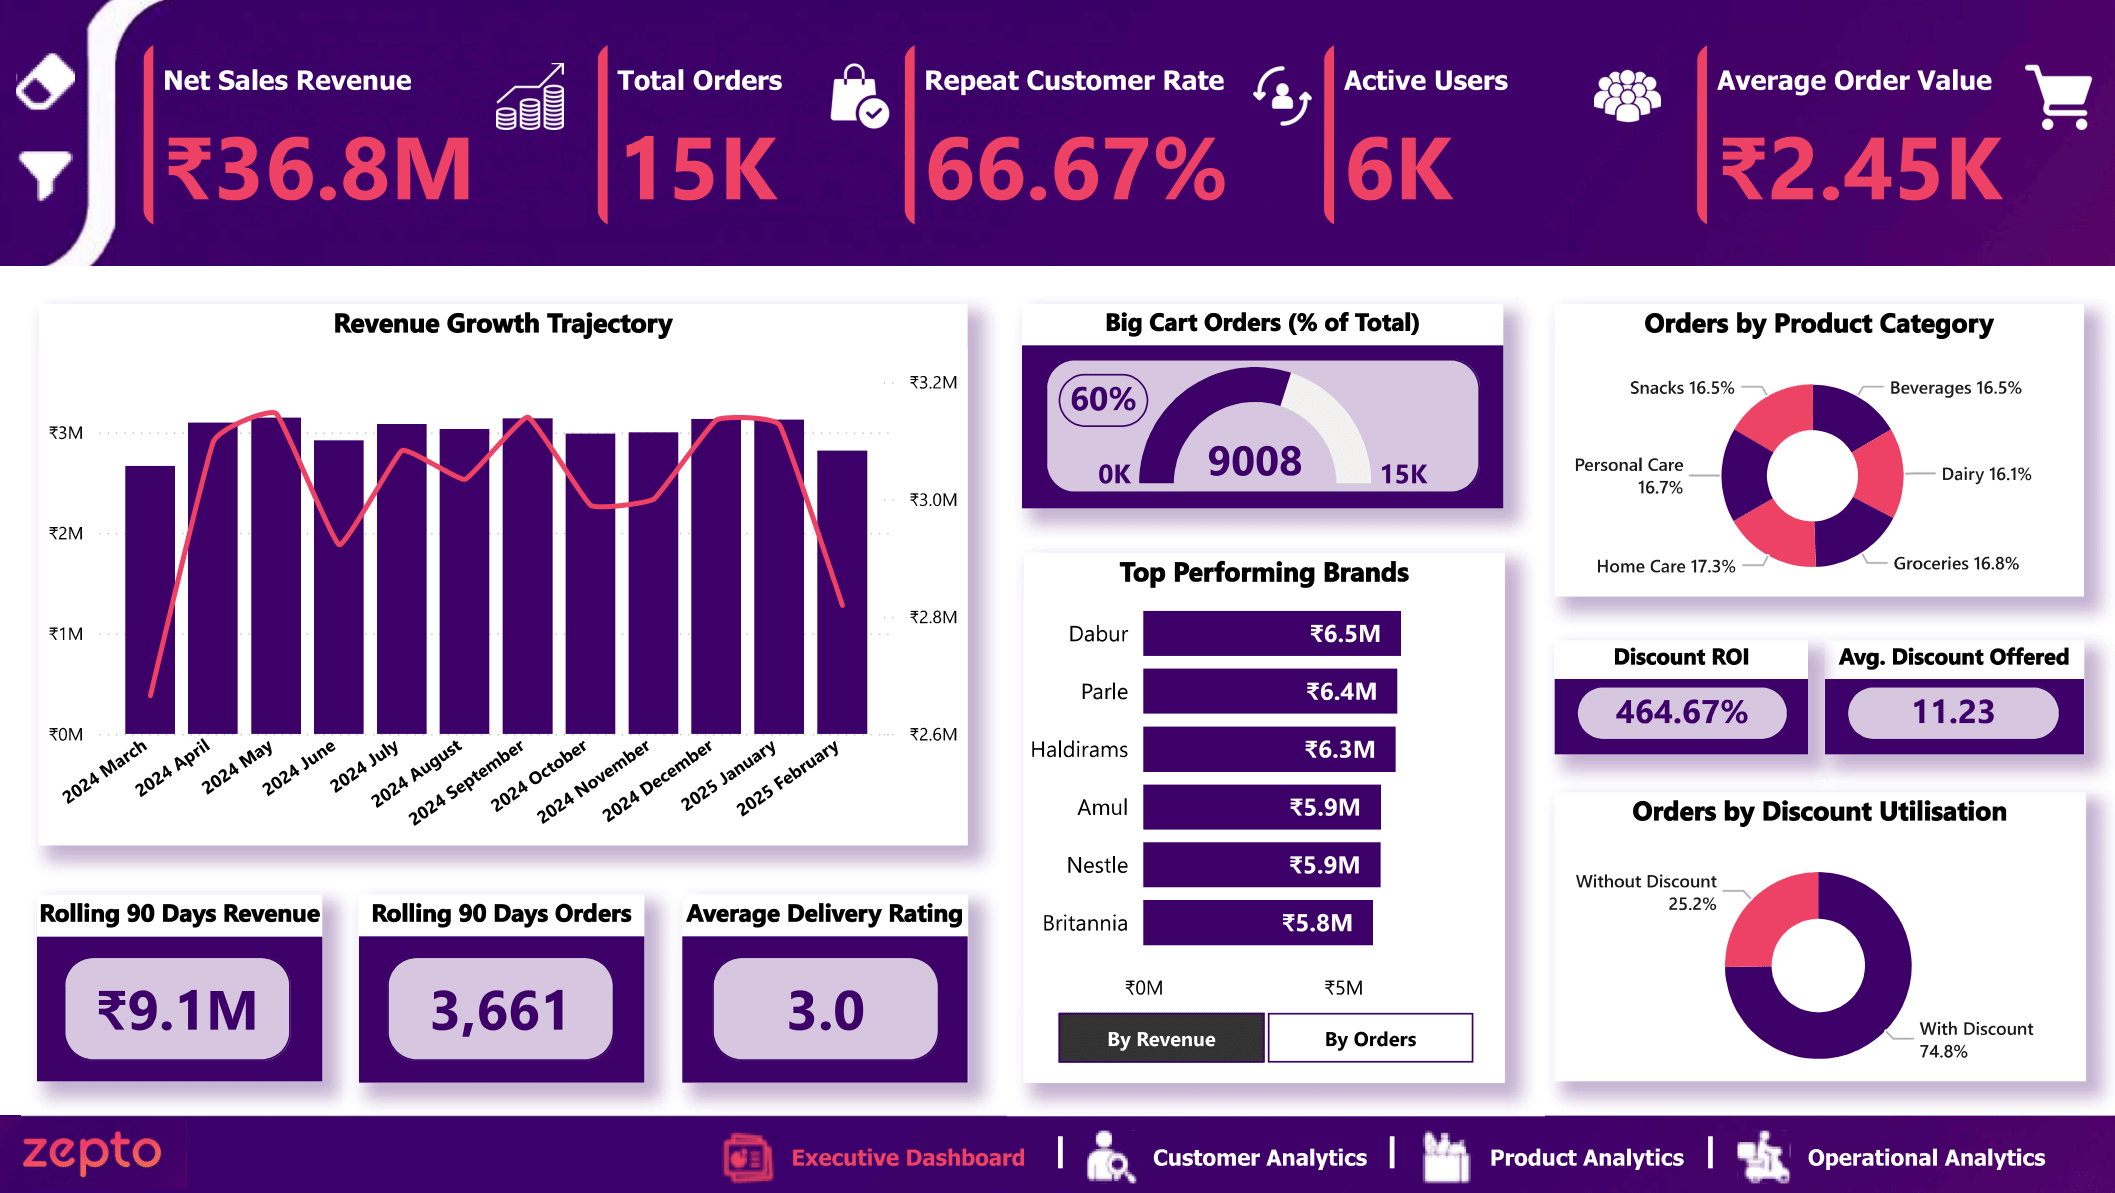

Layout of this report page (visuals, bound fields, positions):
{"tool":"powerbi","page":{"name":"Executive Dashboard","canvas":[1280,720],"ordinal":0},"visuals":[{"type":"image","title":"Bottom Bar","box":[0,673.3,1280,46.7],"z":0},{"type":"image","title":"Top Bar","box":[0,0,1280,161.4],"z":1000},{"type":"image","title":"Zepto Logo","box":[0,672.9,114.3,44.3],"z":2000},{"type":"cardVisual","title":"Revenue Card","fields":{"Data":["Measures Table.Total Revenue (Net of Discounts)"]},"box":[83.3,21.7,275,120],"z":3000},{"type":"cardVisual","title":"Orders Card","fields":{"Data":["Measures Table.Total Orders"]},"box":[356.7,21.7,200,120],"z":4000},{"type":"cardVisual","title":"Repeat Customer % Card","fields":{"Data":["Measures Table.Repeat Customer Rate"]},"box":[541.7,21.7,270,120],"z":5000},{"type":"cardVisual","title":"Active Users Card","fields":{"Data":["Measures Table.Active Users"]},"box":[795,21.7,225,120],"z":6000},{"type":"cardVisual","title":"Cart Size Card","fields":{"Data":["Measures Table.Average Order Value"]},"box":[1020,21.7,260,120],"z":7000},{"type":"shape","title":"Revenue Growth Trajectory","box":[24.5,184.1,560.7,326.4],"z":8000},{"type":"lineClusteredColumnComboChart","title":"Line Chart","fields":{"Y":["Measures Table.Net Sales Revenue"],"Y2":["Measures Table.Net Sales Revenue"],"Category":["Orders.Order_Date.Variation.Date Hierarchy.Year","Orders.Order_Date.Variation.Date Hierarchy.Month"]},"box":[24.5,217.2,560.7,293.3],"z":9000},{"type":"shape","title":"Orders by Discount Utilisation","box":[939,477.6,319.5,174.4],"z":10000},{"type":"shape","title":"Orders by Product Category","box":[938.7,184.1,319,175.5],"z":11000},{"type":"donutChart","title":"Pie Chart 2","fields":{"Y":["Measures Table.Total Orders"],"Category":["Products.Category"]},"box":[931.3,217.2,326.4,141.1],"z":12000},{"type":"donutChart","title":"Pie Chart 1","fields":{"Y":["Measures Table.Total Orders"],"Category":["Orders.Discount Flag"]},"box":[939,510.2,317.9,145.1],"z":13000},{"type":"shape","title":"Rolling 90 Days Revenue","box":[24.5,539.6,171.2,112.5],"z":14000},{"type":"card","title":"Rolling Revenue Card","fields":{"Values":["Measures Table.Running Total of Revenue 90 Days"]},"box":[40.1,576.6,137.1,63.4],"z":15000},{"type":"shape","title":"Discount ROI","box":[938.7,386.5,153.4,68.7],"z":16000},{"type":"shape","title":"Avg. Discount Offered","box":[1101.8,386.5,155.8,68.7],"z":17000},{"type":"shape","title":"Rolling 90 Days Orders","box":[218.4,539.9,171.8,112.9],"z":18000},{"type":"shape","title":"Average Delivery Rating","box":[413.5,539.9,171.8,112.9],"z":19000},{"type":"card","title":"Rolling Orders Card","fields":{"Values":["Measures Table.Running Total of Orders 90 Days"]},"box":[235.3,576.6,137.1,63.4],"z":20000},{"type":"card","title":"Avg. Delivery Rating Card","fields":{"Values":["Measures Table.Average Delivery Rating"]},"box":[430.5,576.6,137.1,63.4],"z":21000},{"type":"card","title":"Discount ROI Card","fields":{"Values":["Measures Table.Discount ROI"]},"box":[951.7,414.2,128.3,32.5],"z":22000},{"type":"card","title":"Avg. Discount Card","fields":{"Values":["Measures Table.Average Discount Offered"]},"box":[1115.4,413.8,128.5,33.1],"z":23000},{"type":"shape","title":"Top Performing Brands","box":[618.6,334.3,290,318.6],"z":24000},{"type":"clusteredBarChart","title":"Top Performing Brand Bar Chart","fields":{"Y":["measures_table.Net Sales Revenue"],"Category":["Products.Brand"]},"box":[617.1,347.1,290,261.4],"z":25000},{"type":"slicer","title":"Field Parameter Slicer","fields":{"Values":["brands_performance.Brands Performance"]},"box":[618.6,608.6,290,34.3],"z":26000},{"type":"shape","title":"Big Cart Orders (% of Total)","box":[618.4,184.1,289.6,122.7],"z":27000},{"type":"gauge","title":"Big Cart Orders Gauge Chart","fields":{"MaxValue":["Measures Table.Total Orders"],"Y":["Measures Table.Big Cart Orders"]},"box":[631.8,217.4,262.3,80.2],"z":28000},{"type":"card","title":"Big Cart % Card","fields":{"Values":["Measures Table.% of Big Cart Orders"]},"box":[640,225.6,54.4,32.6],"z":29000},{"type":"actionButton","title":"Clear Slicer Button","box":[7.1,21.4,43.9,56.1],"z":30000},{"type":"actionButton","title":"Filter Panel Button","box":[7,77,44,57],"z":31000},{"type":"actionButton","title":"Customer Page Navigation","box":[652.2,677.6,177.6,40.3],"z":33000},{"type":"actionButton","title":"Exec Dashboard Navigation","box":[432.8,677.6,191,40.3],"z":34000},{"type":"actionButton","title":"Product Navigation","box":[853.7,677.6,167.2,40.3],"z":35000},{"type":"actionButton","title":"Operations Navigation","box":[1044.8,677.6,194,40.3],"z":36000},{"type":"textbox","title":"Divider 3","box":[1020.9,673.1,23.9,44.8],"z":37000},{"type":"textbox","title":"Divider 1","box":[613.4,673.1,55.2,46.3],"z":38000},{"type":"textbox","title":"Divider 2","box":[817.9,673.1,46.3,46.3],"z":39000}]}

Visuals, with their boxes in screenshot pixels (x1, y1, x2, y2), scaled from the page's 1280x720 canvas onto the 2115x1193 screenshot:
"Bottom Bar" image: <region>0, 1116, 2114, 1192</region>
"Top Bar" image: <region>0, 0, 2114, 267</region>
"Zepto Logo" image: <region>0, 1115, 189, 1188</region>
"Revenue Card" cardVisual: <region>138, 36, 592, 235</region>
"Orders Card" cardVisual: <region>589, 36, 920, 235</region>
"Repeat Customer % Card" cardVisual: <region>895, 36, 1341, 235</region>
"Active Users Card" cardVisual: <region>1314, 36, 1685, 235</region>
"Cart Size Card" cardVisual: <region>1685, 36, 2114, 235</region>
"Revenue Growth Trajectory" shape: <region>40, 305, 967, 846</region>
"Line Chart" lineClusteredColumnComboChart: <region>40, 360, 967, 846</region>
"Orders by Discount Utilisation" shape: <region>1552, 791, 2079, 1080</region>
"Orders by Product Category" shape: <region>1551, 305, 2078, 596</region>
"Pie Chart 2" donutChart: <region>1539, 360, 2078, 594</region>
"Pie Chart 1" donutChart: <region>1552, 845, 2077, 1086</region>
"Rolling 90 Days Revenue" shape: <region>40, 894, 323, 1080</region>
"Rolling Revenue Card" card: <region>66, 955, 293, 1060</region>
"Discount ROI" shape: <region>1551, 640, 1805, 754</region>
"Avg. Discount Offered" shape: <region>1821, 640, 2078, 754</region>
"Rolling 90 Days Orders" shape: <region>361, 895, 645, 1082</region>
"Average Delivery Rating" shape: <region>683, 895, 967, 1082</region>
"Rolling Orders Card" card: <region>389, 955, 615, 1060</region>
"Avg. Delivery Rating Card" card: <region>711, 955, 938, 1060</region>
"Discount ROI Card" card: <region>1573, 686, 1785, 740</region>
"Avg. Discount Card" card: <region>1843, 686, 2055, 740</region>
"Top Performing Brands" shape: <region>1022, 554, 1501, 1082</region>
"Top Performing Brand Bar Chart" clusteredBarChart: <region>1020, 575, 1499, 1008</region>
"Field Parameter Slicer" slicer: <region>1022, 1008, 1501, 1065</region>
"Big Cart Orders (% of Total)" shape: <region>1022, 305, 1500, 508</region>
"Big Cart Orders Gauge Chart" gauge: <region>1044, 360, 1477, 493</region>
"Big Cart % Card" card: <region>1058, 374, 1147, 428</region>
"Clear Slicer Button" actionButton: <region>12, 35, 84, 128</region>
"Filter Panel Button" actionButton: <region>12, 128, 84, 222</region>
"Customer Page Navigation" actionButton: <region>1078, 1123, 1371, 1190</region>
"Exec Dashboard Navigation" actionButton: <region>715, 1123, 1031, 1190</region>
"Product Navigation" actionButton: <region>1411, 1123, 1687, 1190</region>
"Operations Navigation" actionButton: <region>1726, 1123, 2047, 1190</region>
"Divider 3" textbox: <region>1687, 1115, 1726, 1190</region>
"Divider 1" textbox: <region>1014, 1115, 1105, 1192</region>
"Divider 2" textbox: <region>1351, 1115, 1428, 1192</region>
